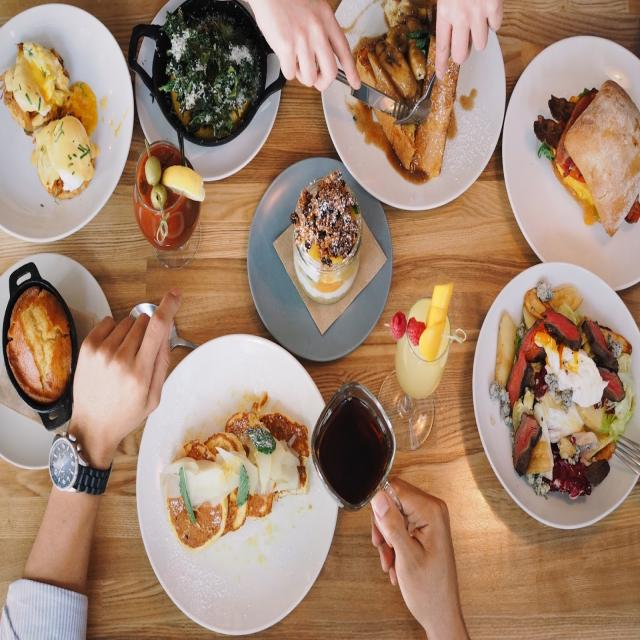banh kep: (154, 343, 314, 596)
banh mi: (0, 254, 101, 444)
bo ap chao: (483, 265, 640, 521)
ca phe: (307, 388, 411, 512)
cocktail: (382, 286, 466, 452), (131, 140, 214, 284)
ngu coc: (274, 164, 383, 341)
sandwich: (535, 45, 640, 269)
